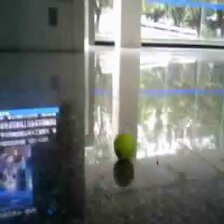tennis: (114, 133, 135, 159)
